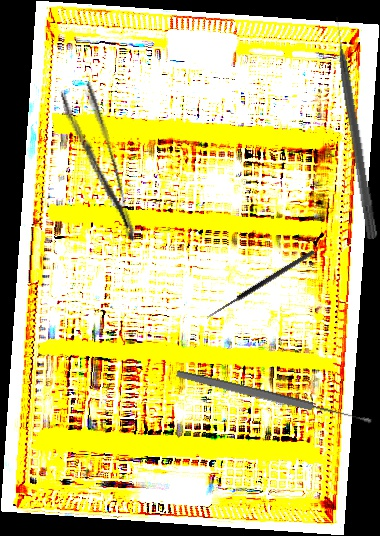Dressing Forceps: (58, 81, 140, 251)
Hook Surgical: (205, 248, 319, 326)
Pusher: (331, 15, 380, 240)
Surgical Spoon: (174, 367, 374, 428)
